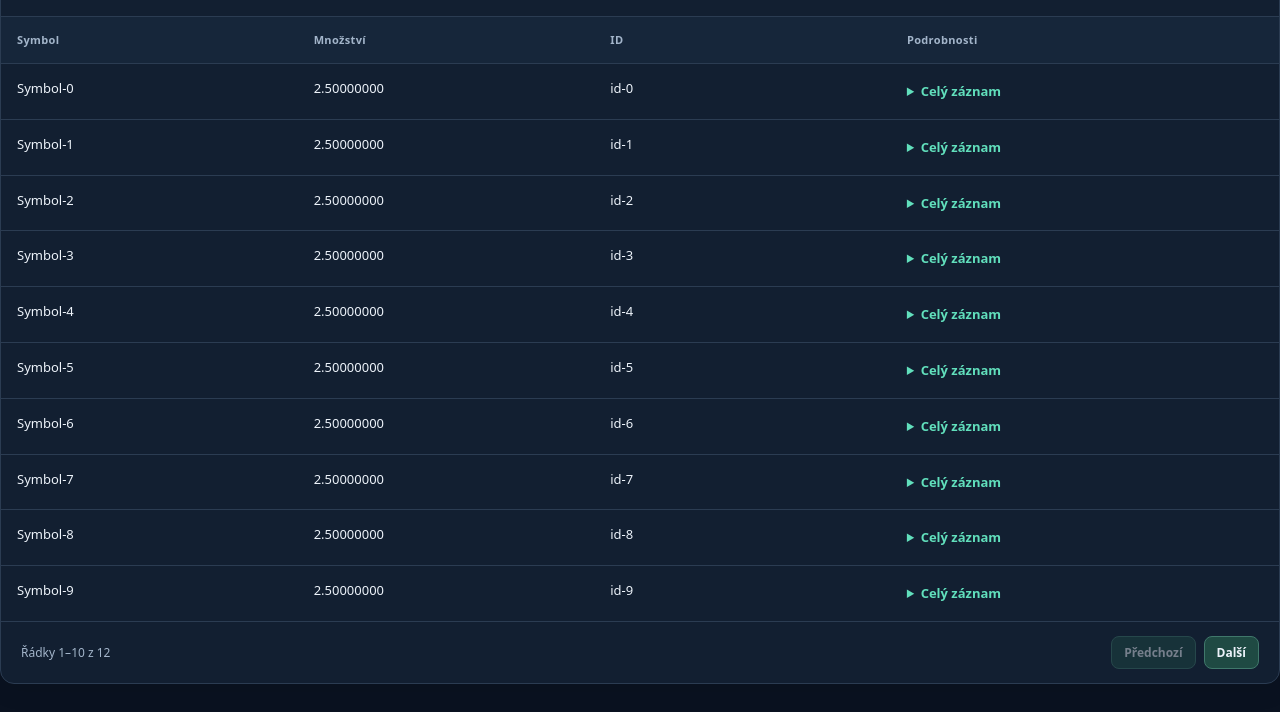
Test: searches all loaded rows and exposes later pages without losing raw data
The width and height of the screenshot is (1280, 712).
(page scrolled)
expect the text "Řádky 1–10 z 12" is shown: met, box [21, 643, 110, 662]
Step 1. Click the button "Další" → (1231, 653), box [1204, 636, 1259, 669]
(page scrolled)
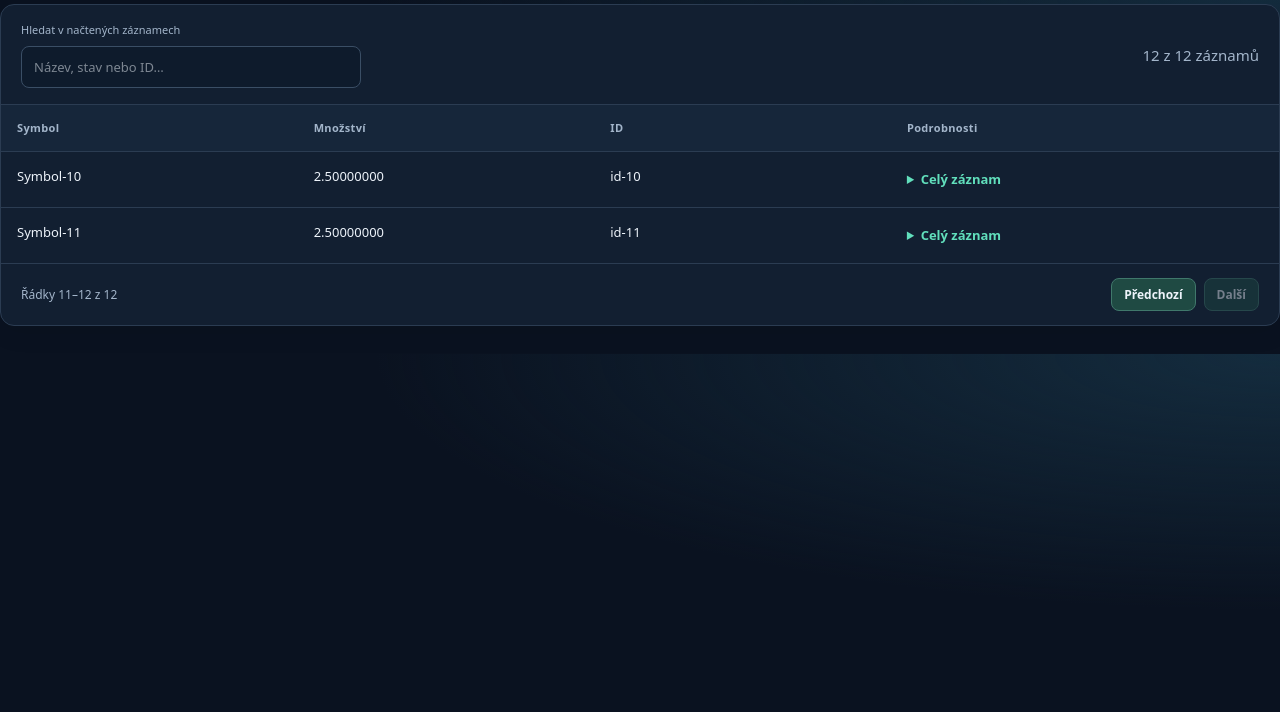
expect the text "Řádky 11–12 z 12" is shown: met, box [21, 285, 117, 304]
Step 2. Type "Symbol-11" into the search field → (191, 67), box [21, 46, 361, 88]
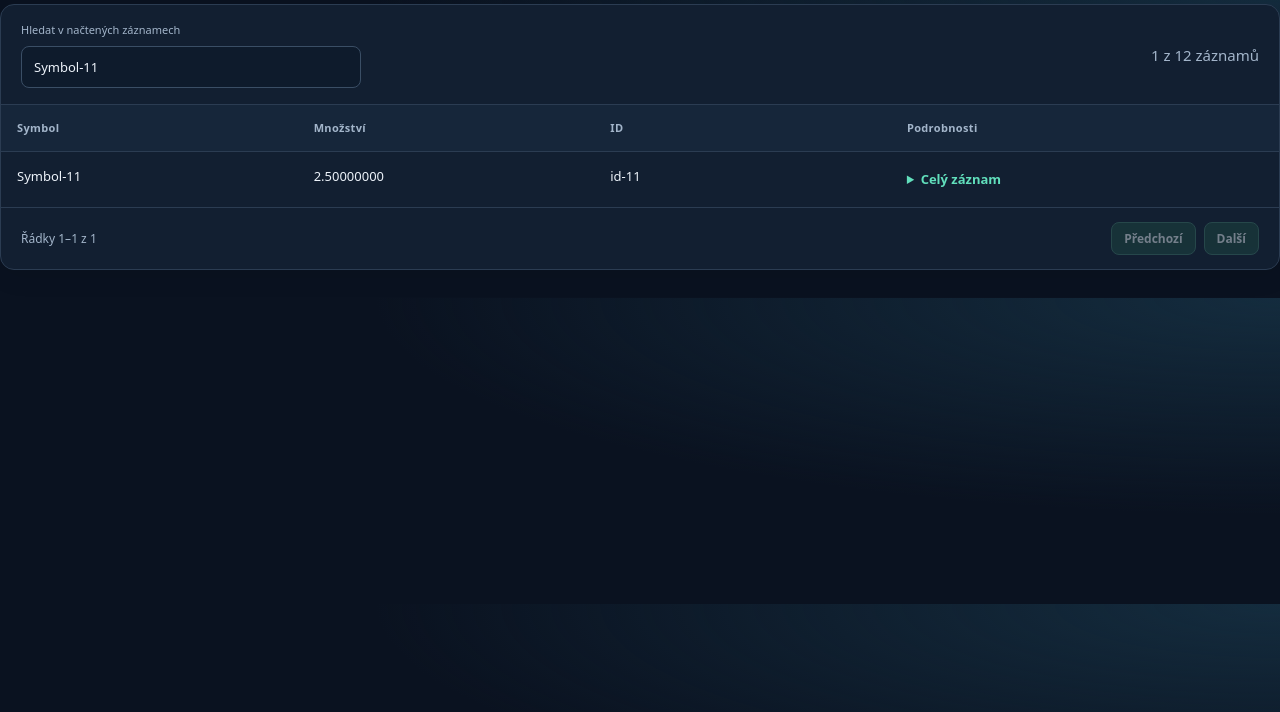
expect the text "2.50000000" is shown: met, box [314, 167, 384, 185]
expect the text "Řádky 1–1 z 1" is shown: met, box [21, 229, 97, 248]
